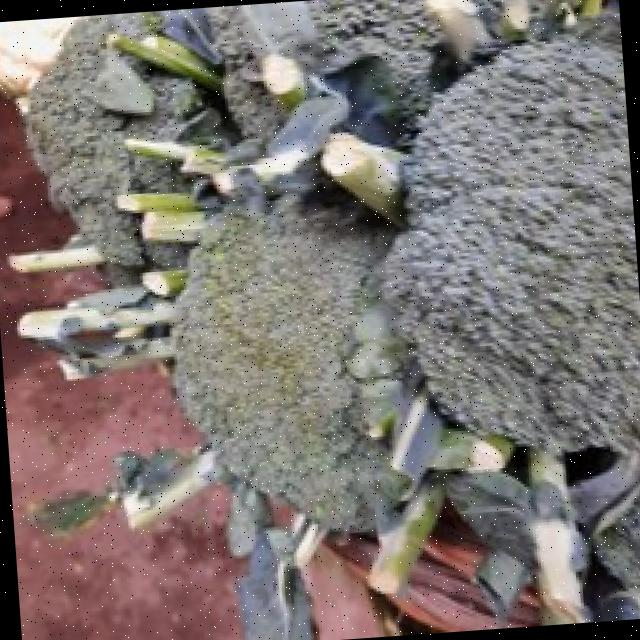Broccoli: (174, 0, 640, 530), (313, 0, 640, 453), (382, 29, 640, 451), (383, 36, 640, 451), (175, 184, 405, 530), (177, 184, 398, 527), (176, 186, 395, 528), (32, 5, 288, 281), (30, 16, 231, 282), (27, 15, 144, 282)
